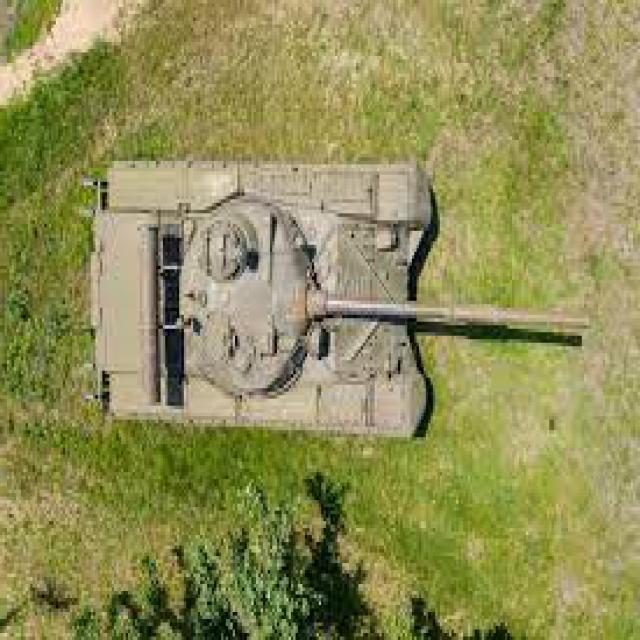Tanks: (76, 160, 592, 444)
